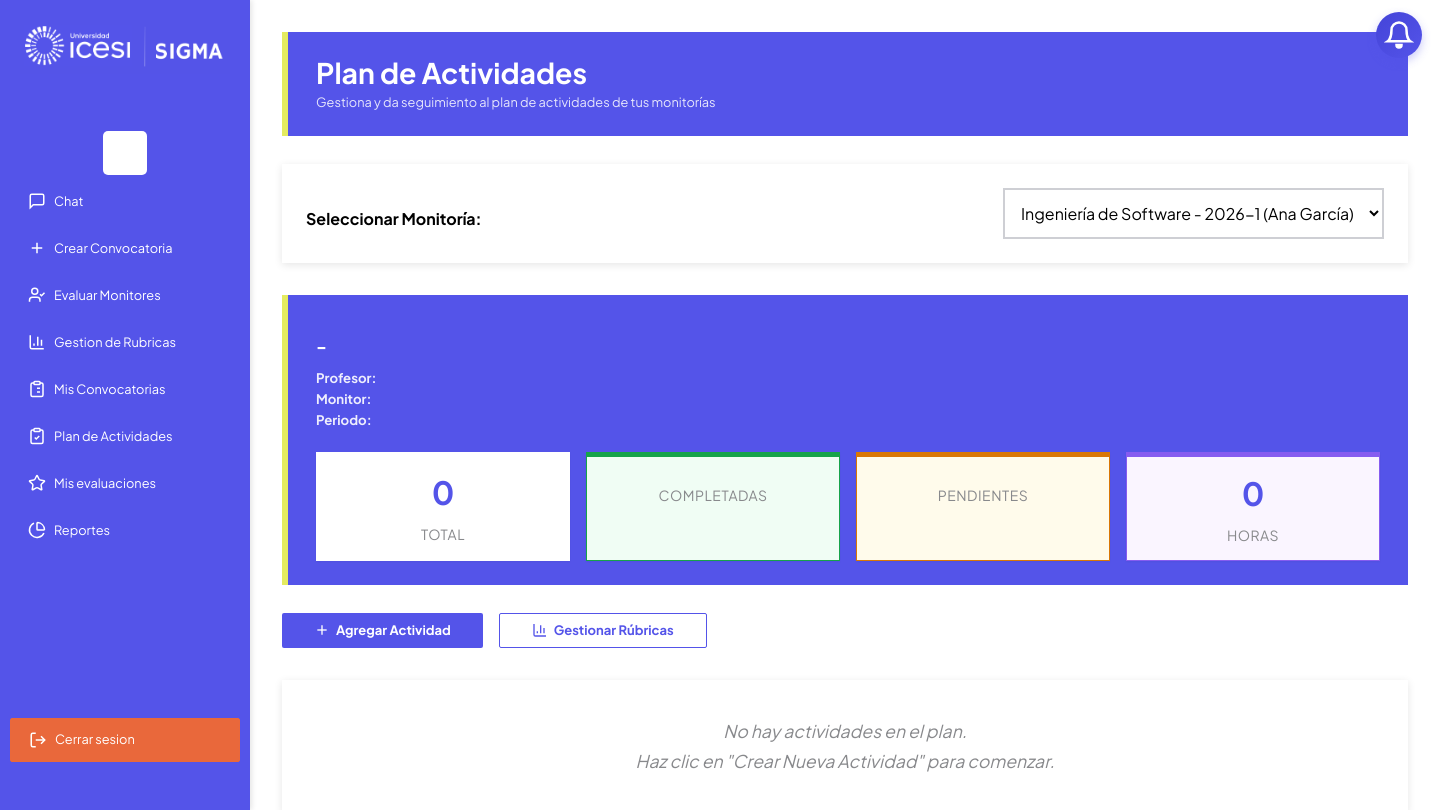
Test case: ActividadesRegistroPlanVista › PlanActividades debe calcular duración automáticamente al cambiar horario
Expected: the text "No hay actividades en el plan." is shown, [723,720,967,742]
Step 1. Click the button "Agregar Actividad" → {"x": 382, "y": 630}, box [282,613,483,648]
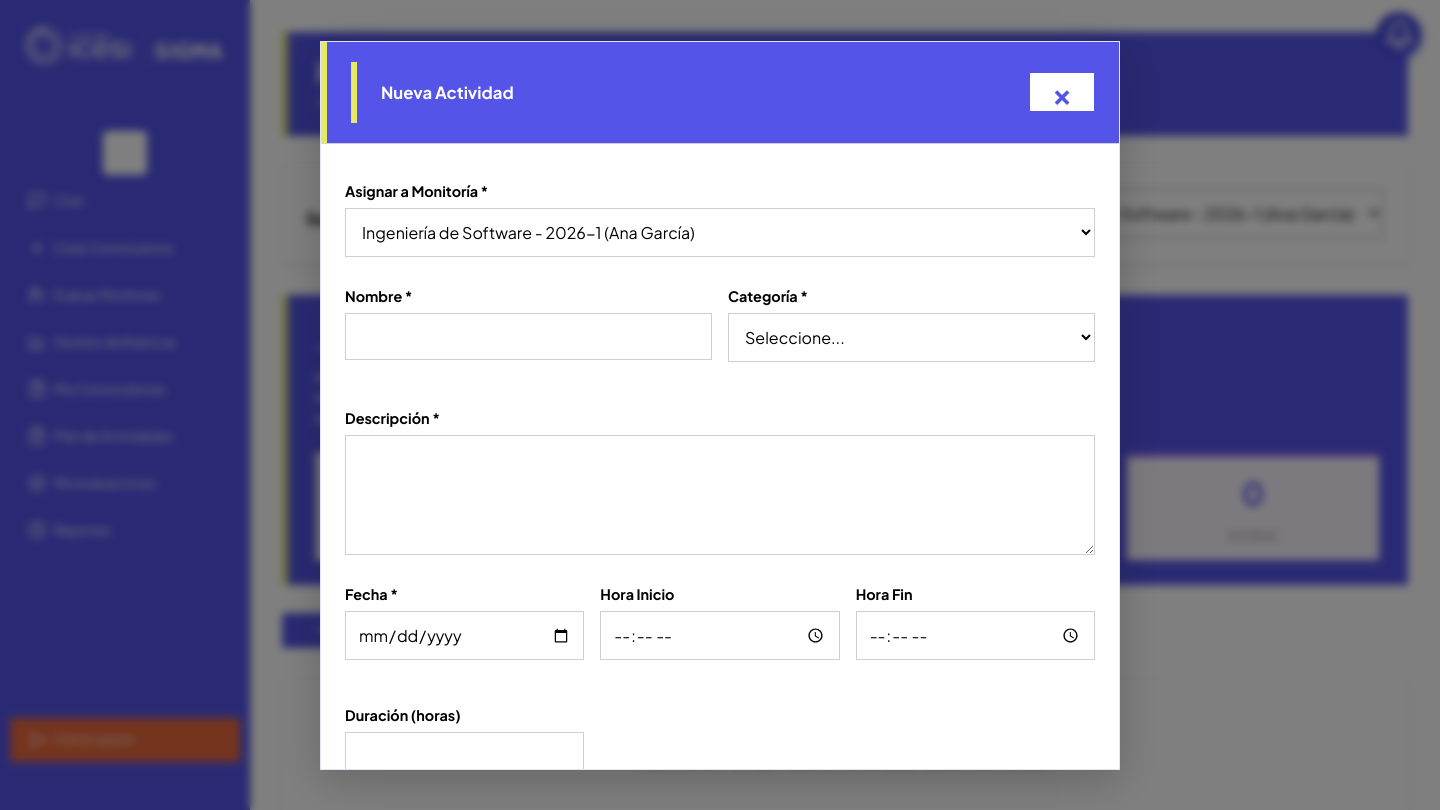
Expected: the heading "Nueva Actividad" is shown, [351,62,538,122]
Step 2. Type "08:00" into the time field named "startTime" below "Hora Inicio" → {"x": 720, "y": 636}, box [600,611,840,660]
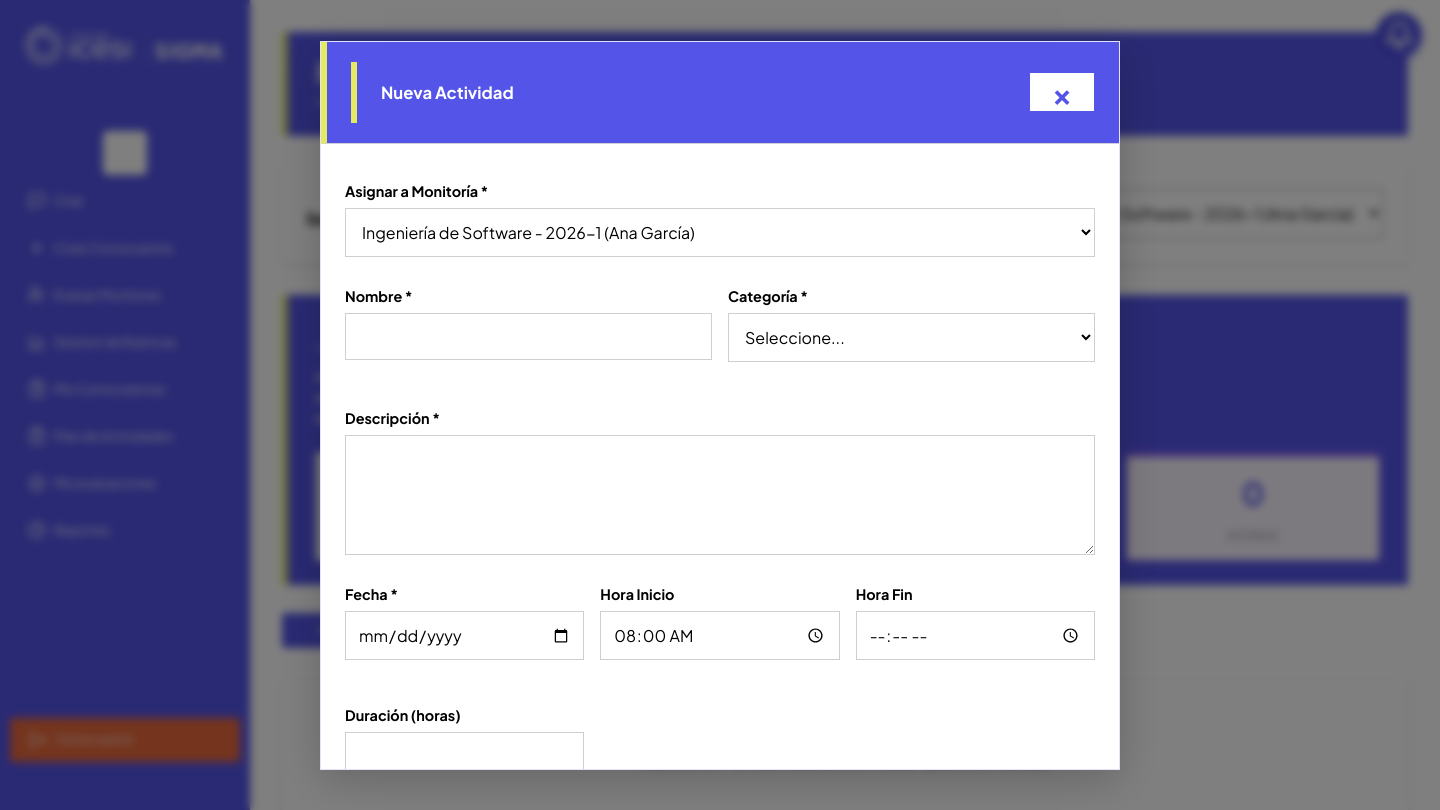
Step 3. Type "10:00" into the time field named "endTime" below "Hora Fin" → {"x": 975, "y": 636}, box [856,611,1095,660]
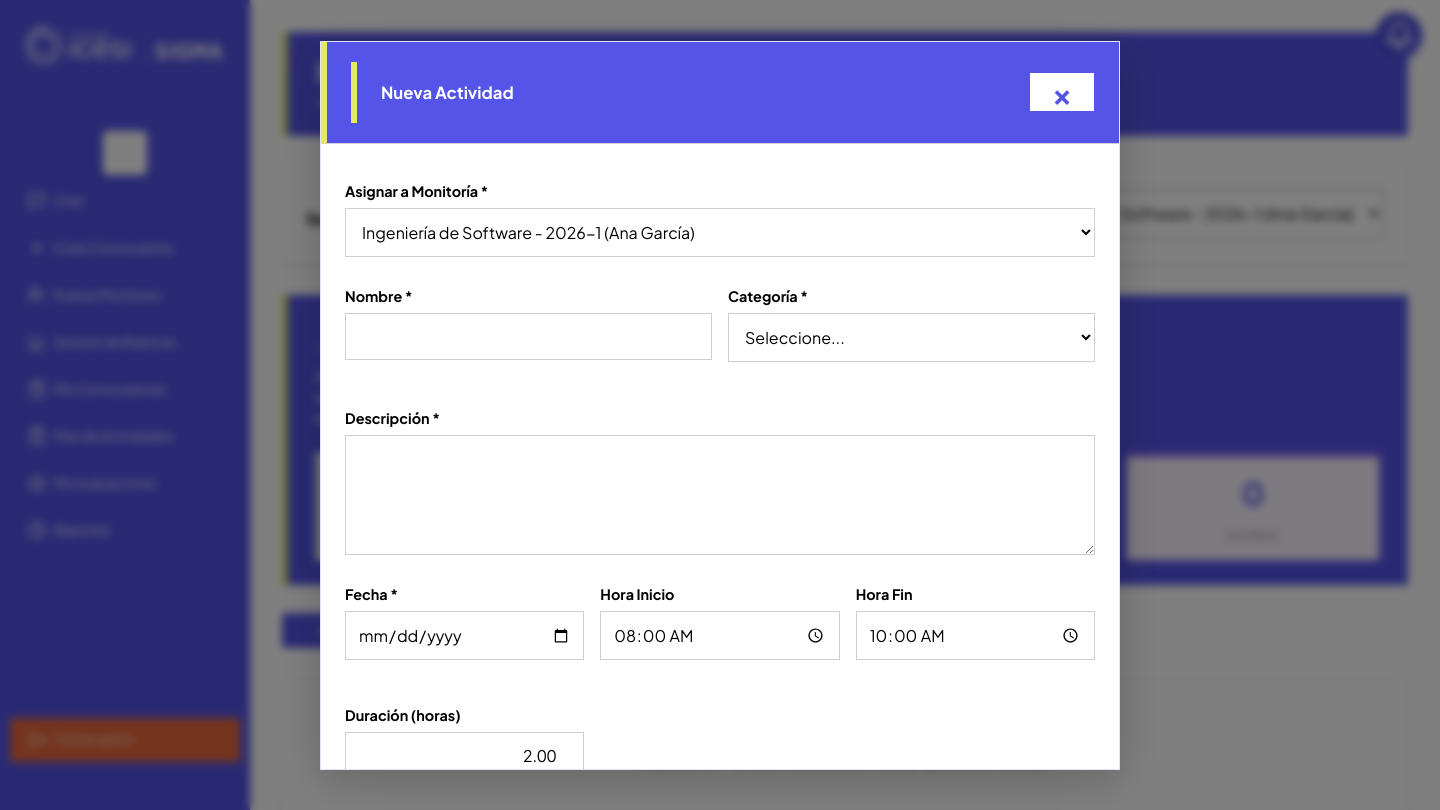
Expected: the number field named "durationHours" holds "2.00", [345,732,584,770]
